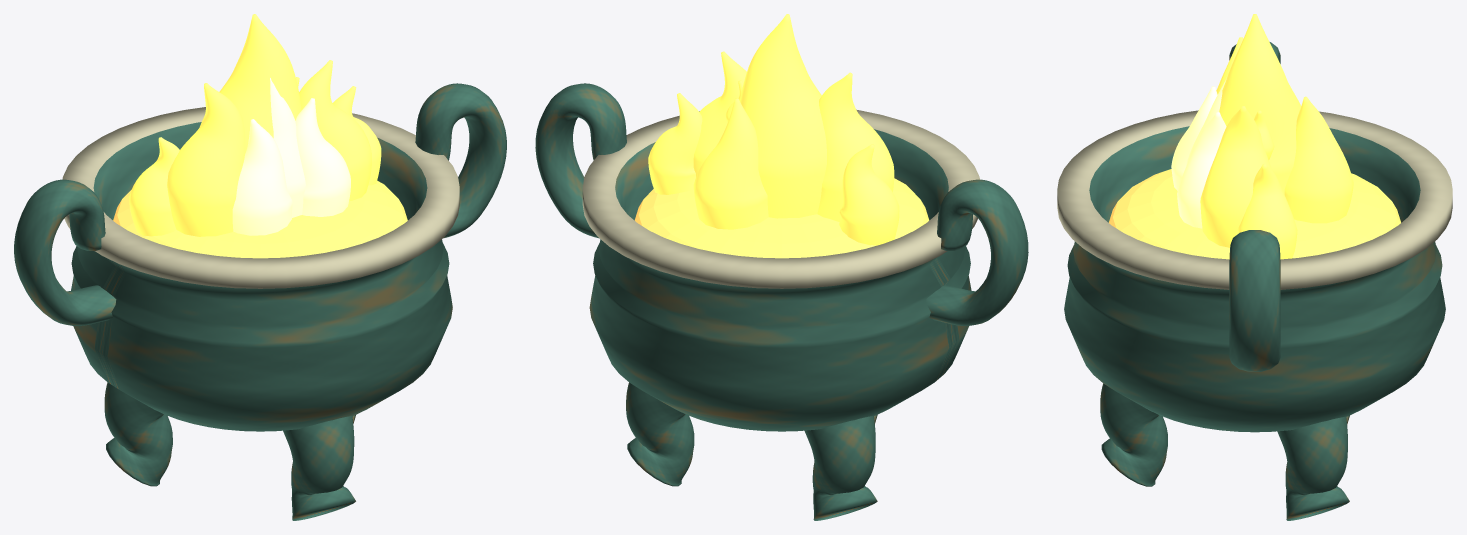
Rendered from Prop_02_三足青铜炼丹炉.glb.
The picture shows the model from 3 angles, left to right: view 1: azimuth 30°, elevation 25°; view 2: azimuth 150°, elevation 25°; view 3: azimuth 270°, elevation 25°; orthographic projection.
Parts seen in each view (by area): view 1: CauldronBody, Handle_-1, Sphere, Flame_1, Handle_1, Leg_0, Flame_0, Leg_2, Flame_6, Flame_7, Flame_2, Flame_3 (+2 smaller); view 2: CauldronBody, Flame_0, Sphere, Handle_-1, Handle_1, Flame_5, Leg_2, Flame_1, Leg_1, Flame_3, Flame_4, Flame_2; view 3: CauldronBody, Sphere, Handle_1, Flame_0, Flame_5, Leg_1, Flame_2, Leg_0, Flame_4, Flame_7, Flame_6, Flame_9.
Part boxes in pixels (left/top/right/bottom): CauldronBody: left=62, top=107, right=459, bottom=431; Handle_-1: left=14, top=179, right=116, bottom=325; Sphere: left=113, top=180, right=407, bottom=258; Flame_1: left=167, top=83, right=245, bottom=236; Handle_1: left=415, top=83, right=506, bottom=238; Leg_0: left=283, top=416, right=355, bottom=520; Flame_0: left=200, top=14, right=301, bottom=152; Leg_2: left=104, top=382, right=172, bottom=486; Flame_6: left=232, top=119, right=292, bottom=235; Flame_7: left=295, top=98, right=350, bottom=216; Flame_2: left=299, top=60, right=371, bottom=200; Flame_3: left=129, top=137, right=179, bottom=236; CauldronBody: left=582, top=109, right=979, bottom=431; Flame_0: left=740, top=14, right=826, bottom=218; Sphere: left=634, top=178, right=929, bottom=258; Handle_-1: left=926, top=179, right=1028, bottom=325; Handle_1: left=535, top=83, right=626, bottom=238; Flame_5: left=693, top=98, right=768, bottom=229; Leg_2: left=804, top=416, right=877, bottom=520; Flame_1: left=817, top=72, right=894, bottom=221; Leg_1: left=626, top=382, right=694, bottom=486; Flame_3: left=839, top=144, right=899, bottom=245; Flame_4: left=648, top=93, right=702, bottom=194; Flame_2: left=693, top=51, right=746, bottom=176; CauldronBody: left=1057, top=110, right=1452, bottom=432; Sphere: left=1109, top=169, right=1400, bottom=259; Handle_1: left=1229, top=230, right=1280, bottom=371; Flame_0: left=1219, top=14, right=1301, bottom=194; Flame_5: left=1284, top=96, right=1353, bottom=223; Leg_1: left=1277, top=416, right=1349, bottom=520; Flame_2: left=1200, top=106, right=1271, bottom=247; Leg_0: left=1100, top=383, right=1167, bottom=486; Flame_4: left=1237, top=163, right=1297, bottom=259; Flame_7: left=1177, top=112, right=1226, bottom=228; Flame_6: left=1171, top=86, right=1217, bottom=190; Flame_9: left=1254, top=110, right=1274, bottom=159.
Bounding box in the file's own units: 2.4 × 2.23 × 1.72.
5 materials, 1 textured.
